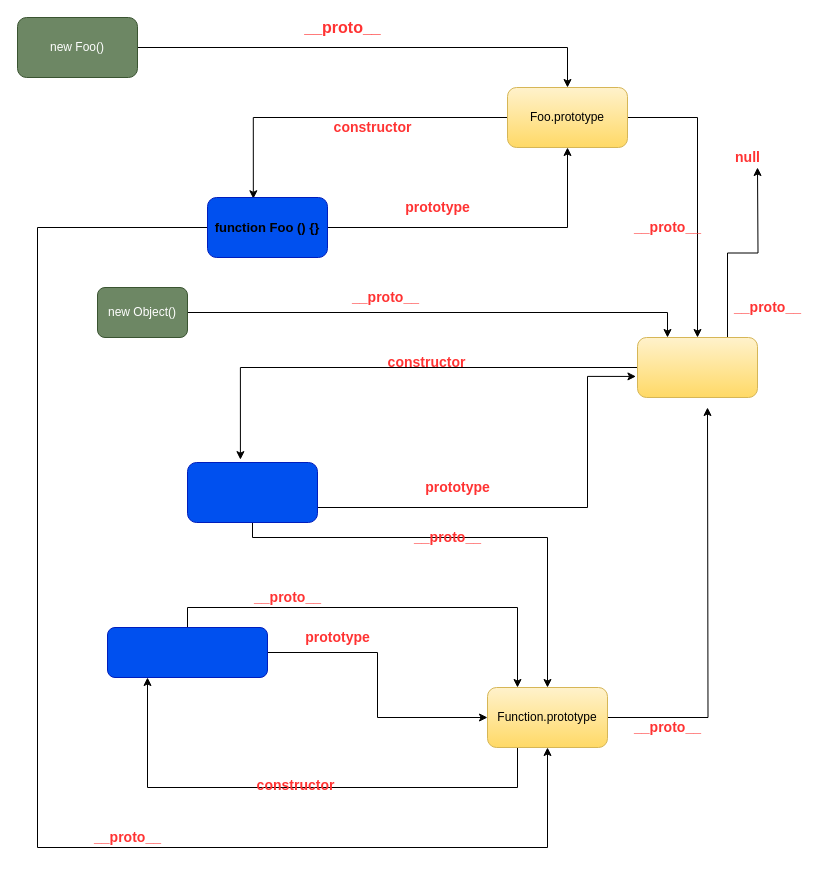
The diagram is 825 pixels wide and 873 high, and some of its shapes have lost their labels. The centre of each missing label's shape, as x and y in pixels:
function Function () {}: pixel 187 652
function Object () {}: pixel 252 492
Object.prototype: pixel 697 367
